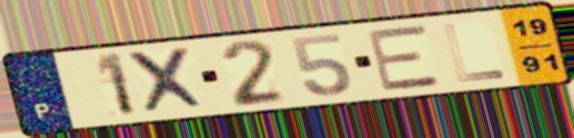1: (94, 50, 139, 120)
2: (218, 38, 289, 110)
5: (287, 30, 355, 98)
E: (363, 22, 446, 94)
L: (440, 22, 510, 85)
X: (122, 45, 214, 117)
